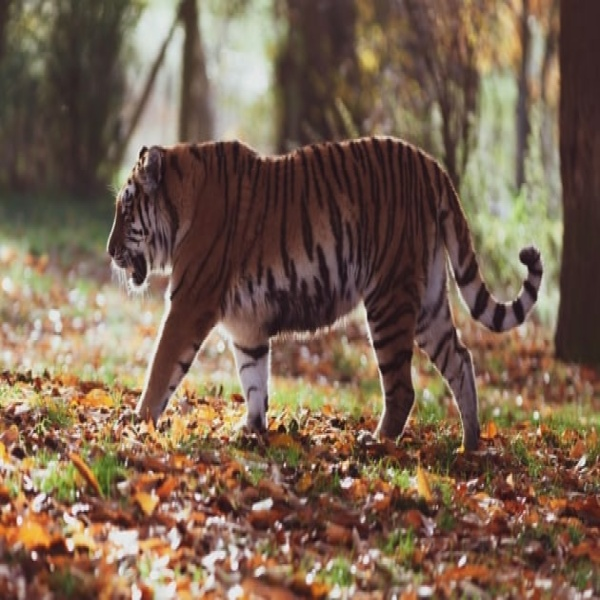Tiger: (102, 133, 548, 459)
